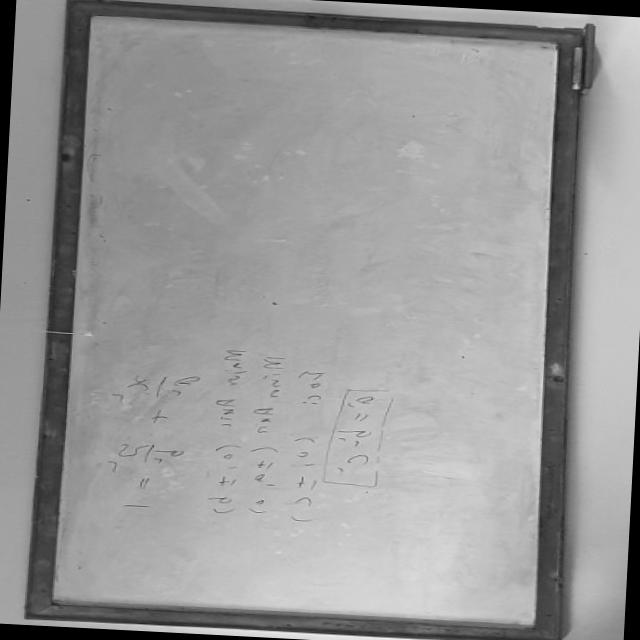White-board: (42, 2, 570, 640)
